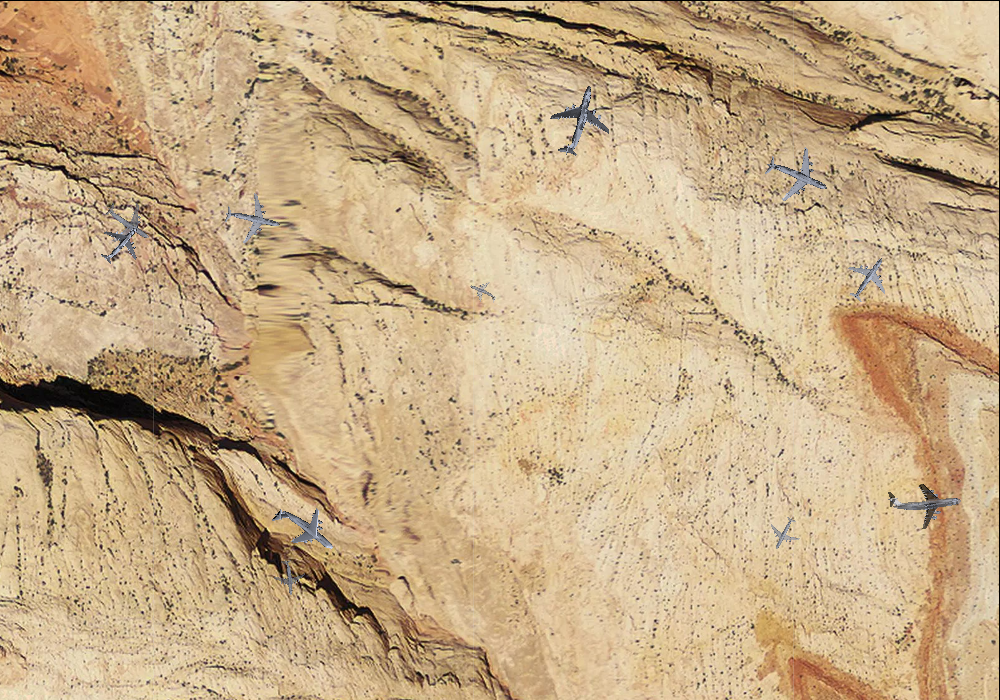plane: (260, 487, 347, 573), (536, 76, 620, 163), (755, 135, 839, 216), (884, 466, 964, 536), (93, 188, 162, 257), (835, 245, 901, 311), (88, 210, 153, 275), (219, 187, 285, 250), (762, 510, 806, 556), (269, 558, 306, 597), (464, 274, 501, 310)
